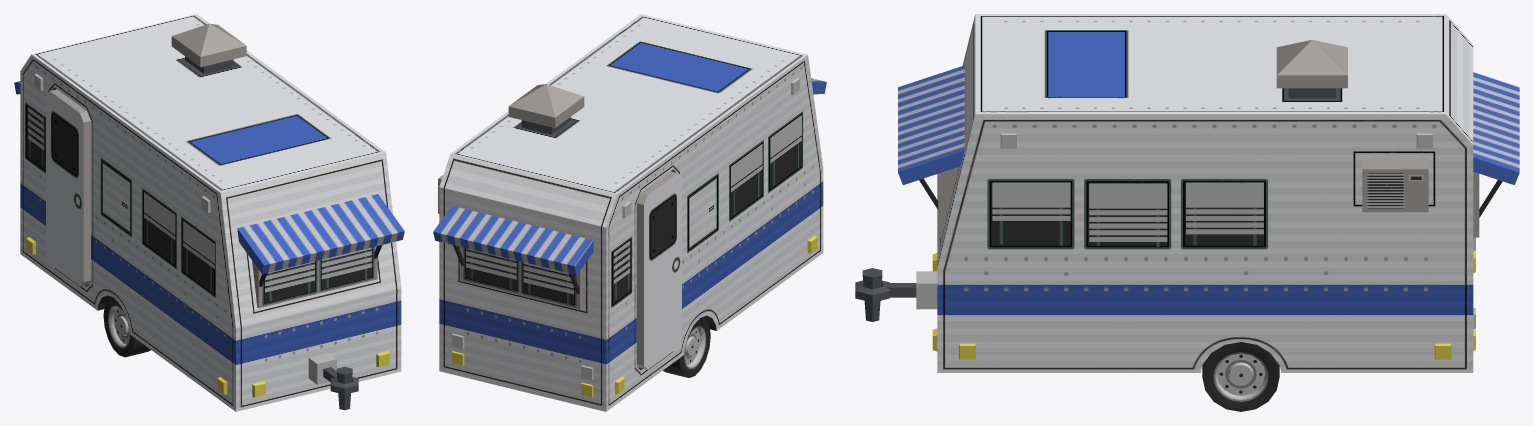
The model's file is Caravan.gltf.
3 views of the same model, side by side, from view 1: azimuth 30°, elevation 25°; view 2: azimuth 150°, elevation 25°; view 3: azimuth 270°, elevation 25° (orthographic). The views are drawn at different scales.
Visible parts, largest first — view 1: node-0; view 2: node-0; view 3: node-0.
Part boxes in pixels (x1,y1,x2,y2): node-0: [14, 14, 404, 411]; node-0: [433, 14, 826, 411]; node-0: [855, 14, 1519, 411].
Size of the model in its own units: 115 by 163 by 280.
Materials: 1 (1 with a texture image).
